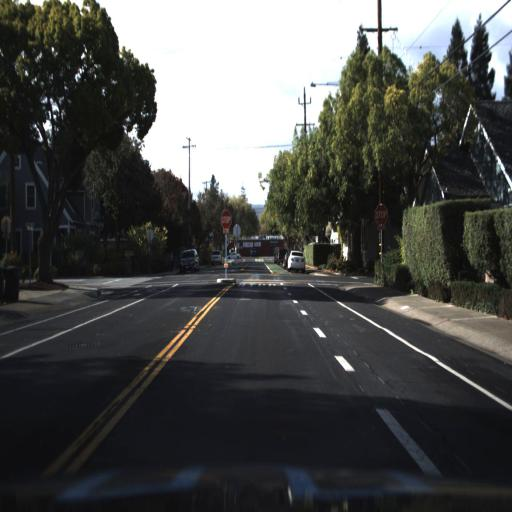car: (177, 249, 198, 276), (285, 247, 305, 274)
